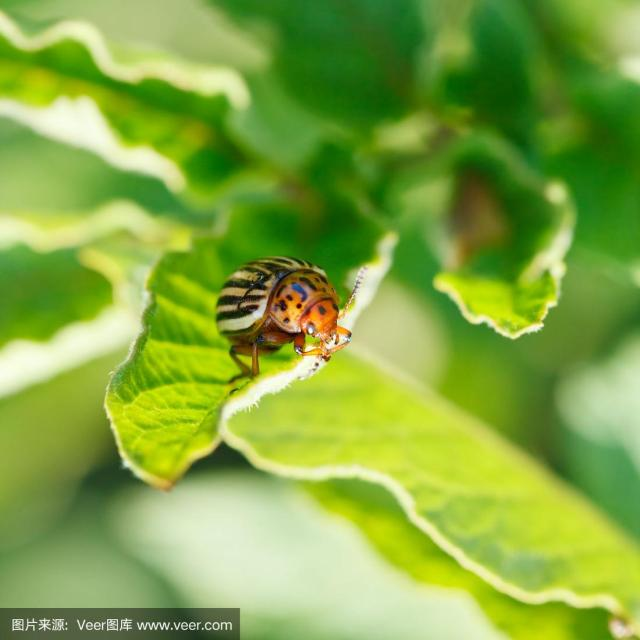ShuCaiHuaBanChong-Grown-: (190, 228, 348, 358)
